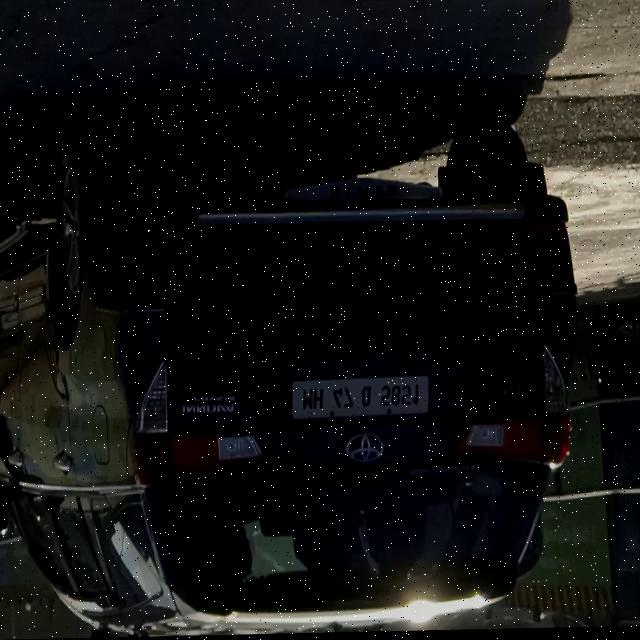plate: (284, 369, 436, 428)
